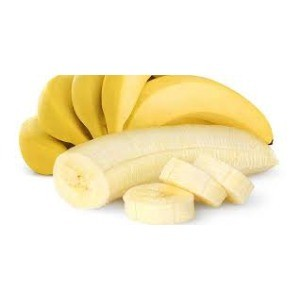banana_brain food: (35, 97, 210, 198)
